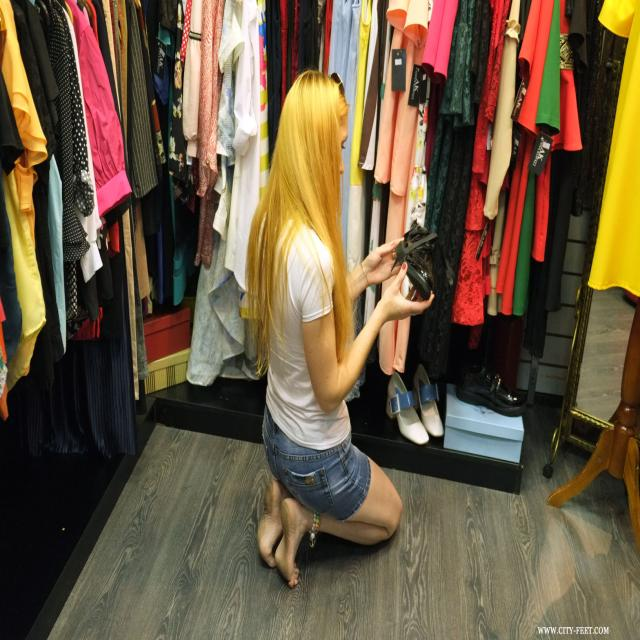Barefoots: (257, 480, 283, 568), (275, 498, 299, 587)
